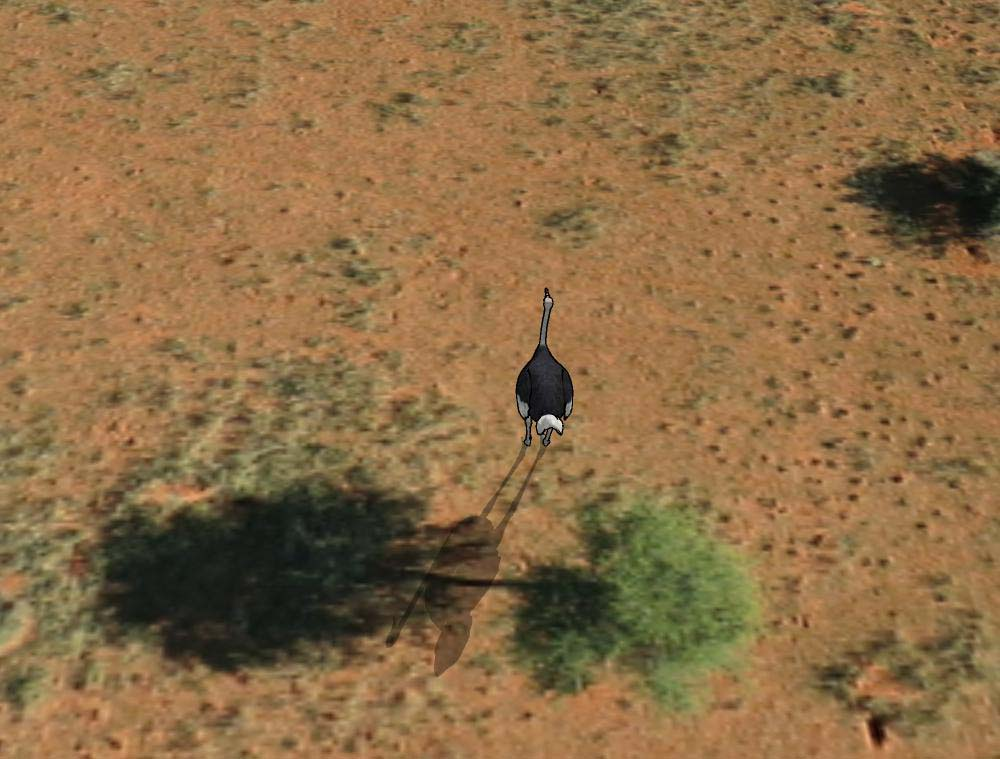ostrich: (507, 282, 583, 452)
